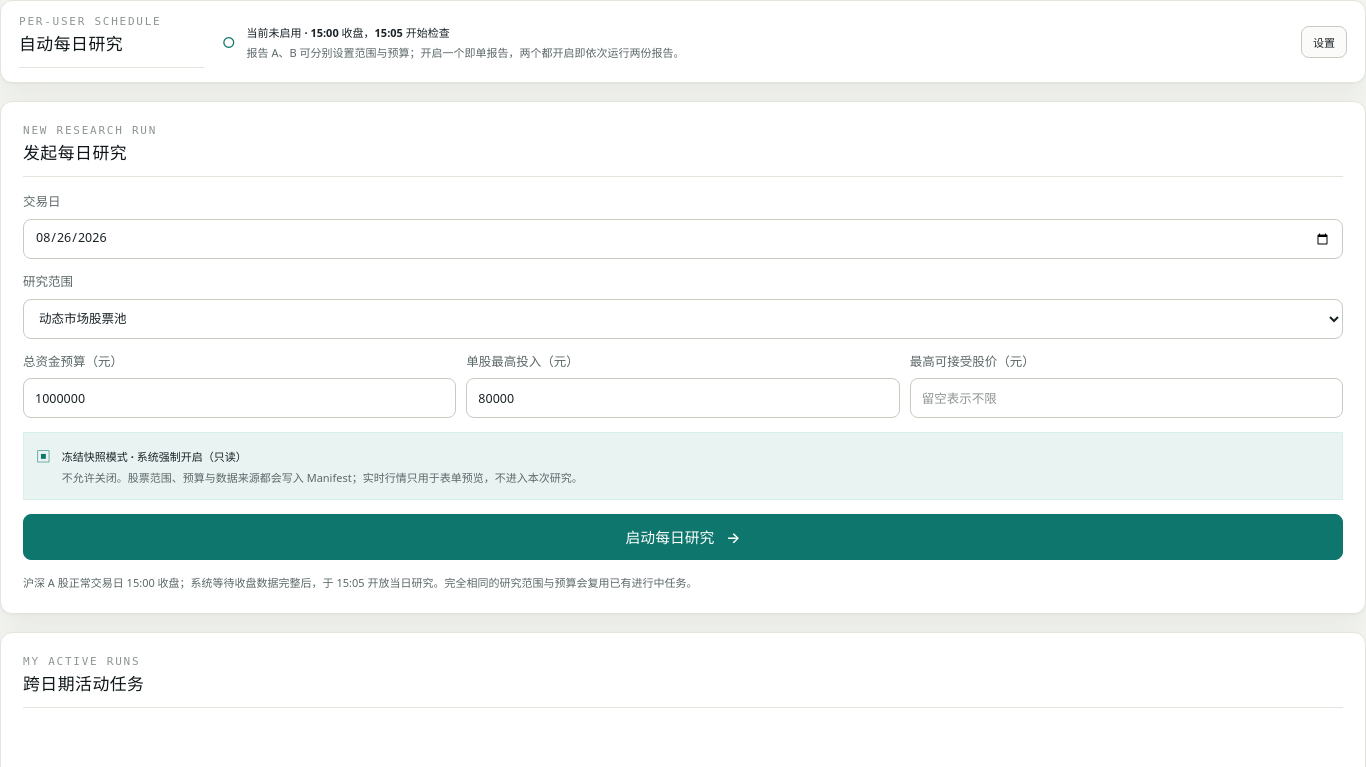
Test: research observation mode and precise reports › keeps frozen snapshots system-enforced and saves independent automatic reports
expect the text "当前未启用 · 15:00 收盘，15:05 开始检查" is shown: met, box left=246, top=25, right=450, bottom=40
expect the text "冻结快照模式 · 系统强制开启（只读）" is shown: met, box left=62, top=449, right=247, bottom=464
Click the button "设置".
click(1324, 42)  # box left=1301, top=26, right=1347, bottom=58
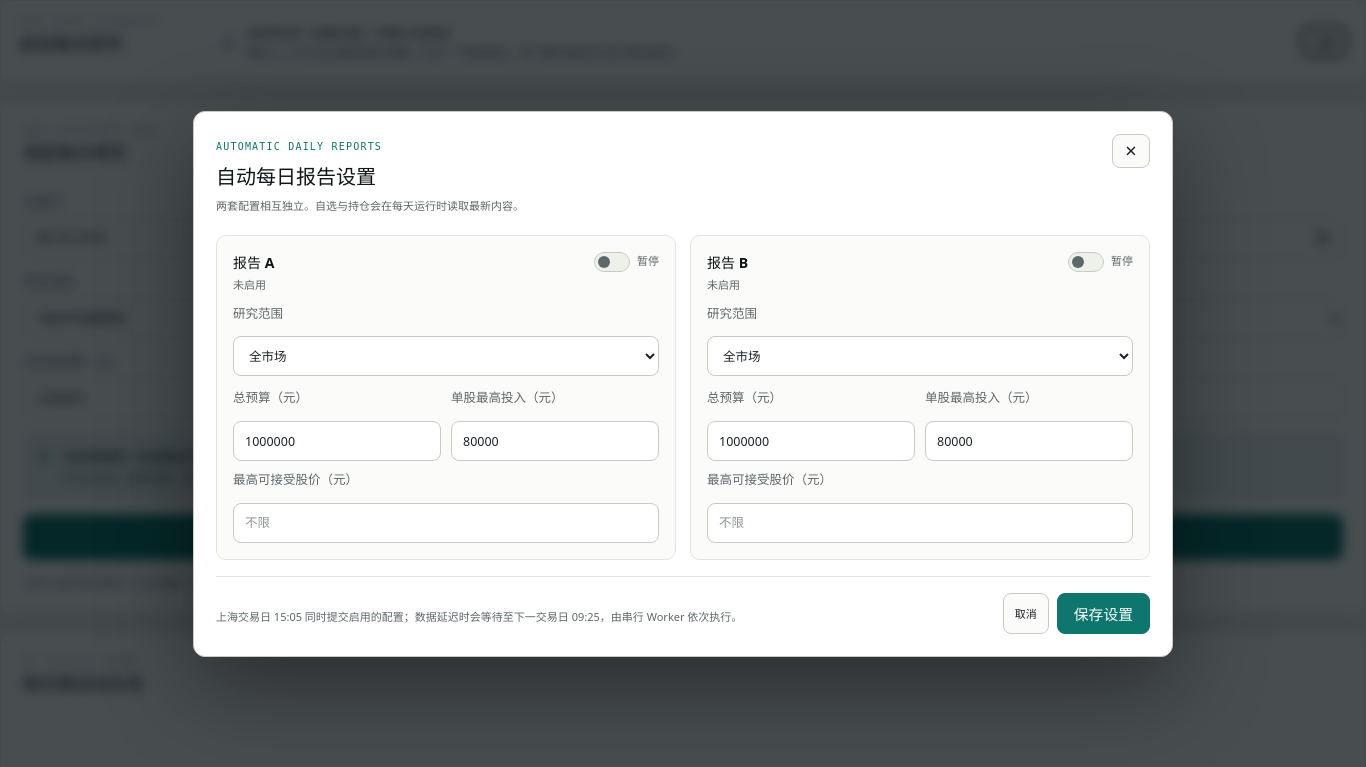
Click the 1st checkbox labelled "暂停".
click(626, 262)  # box left=594, top=252, right=659, bottom=272
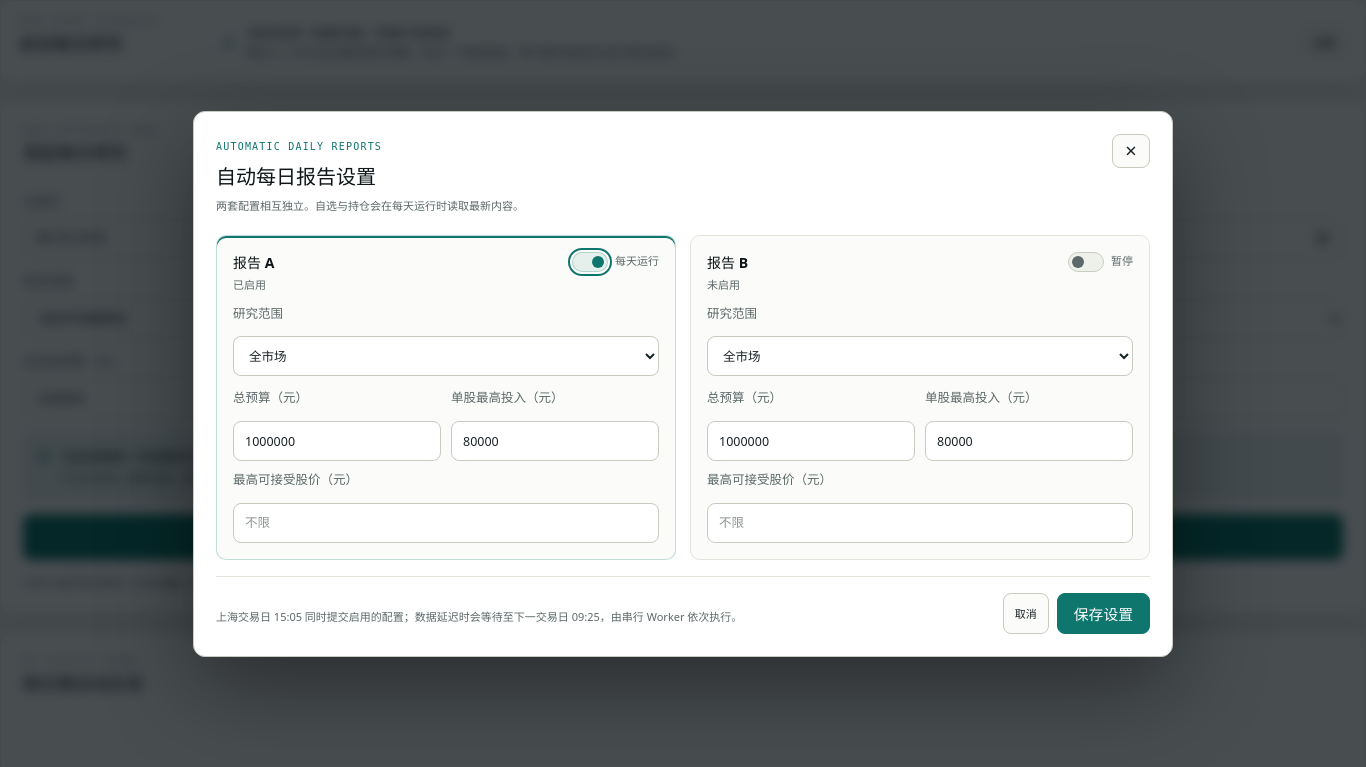
Click the button "保存设置".
click(1103, 613)  # box left=1057, top=593, right=1150, bottom=634
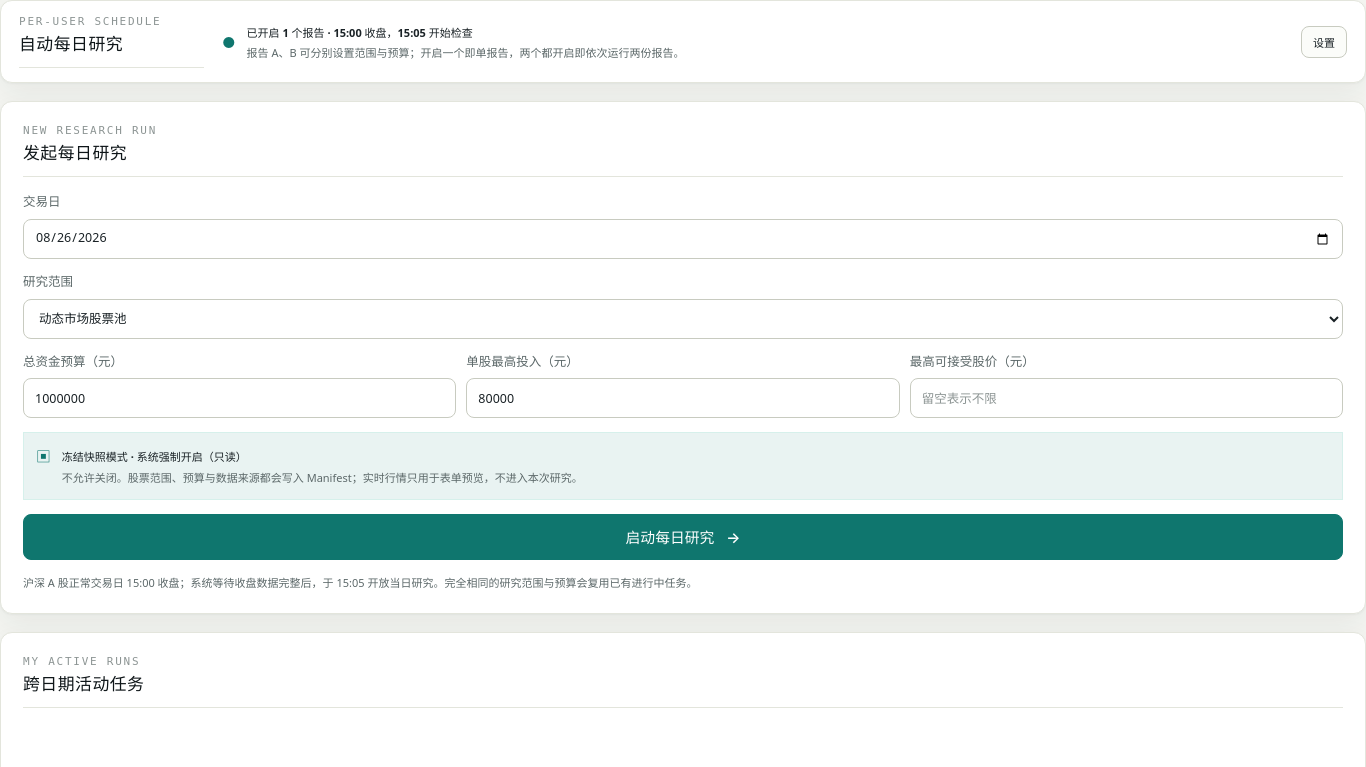
expect the text "已开启 1 个报告 · 15:00 收盘，15:05 开始检查" is shown: met, box left=246, top=25, right=473, bottom=40
